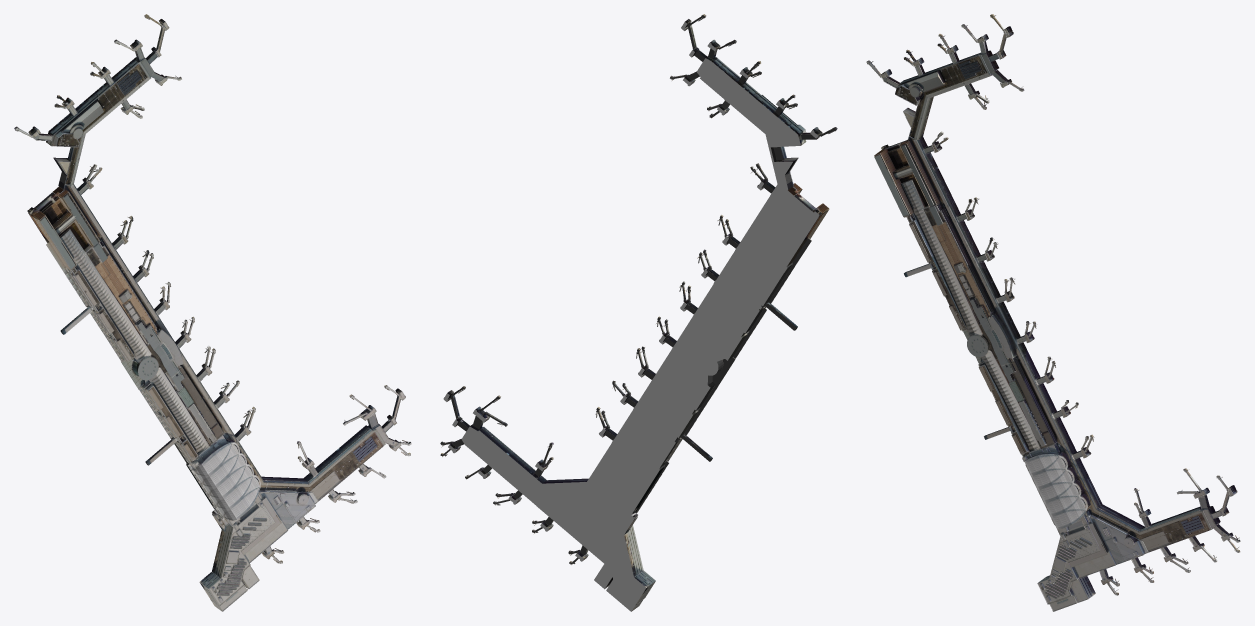
The model's file is 53392663_bldg_6677.obj.
3 renders of one model, left to right at view 1: azimuth 30°, elevation 25°; view 2: azimuth 150°, elevation 25°; view 3: azimuth 330°, elevation 25°, orthographic. The views are drawn at different scales.
Size of the model in its own units: 680 by 1002 by 36.49.
1 material, 1 textured.
